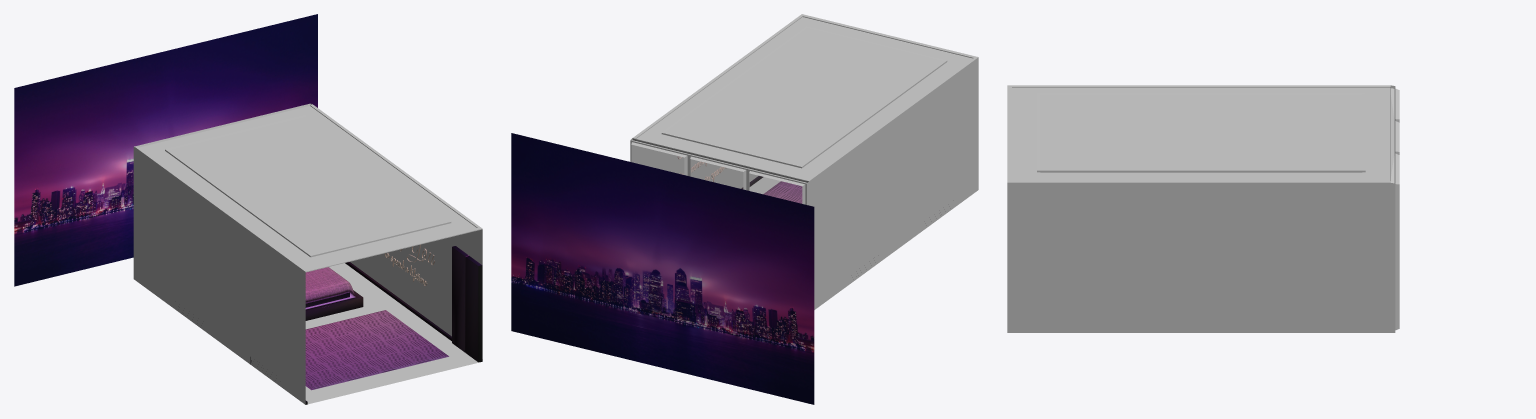
File: Neon Bedroom.fbx
3 views of the same model, side by side, from view 1: azimuth 30°, elevation 25°; view 2: azimuth 150°, elevation 25°; view 3: azimuth 270°, elevation 25° (orthographic). The views are drawn at different scales.
Parts seen in each view (by area): view 1: Neon Bedroom; view 2: Neon Bedroom; view 3: Neon Bedroom.
Boxes of the visible parts, x1,y1,x2,y2 form: Neon Bedroom: (14, 14, 482, 404); Neon Bedroom: (511, 14, 978, 404); Neon Bedroom: (1007, 85, 1399, 332).
Size of the model in its own units: 864 by 540 by 1124.
